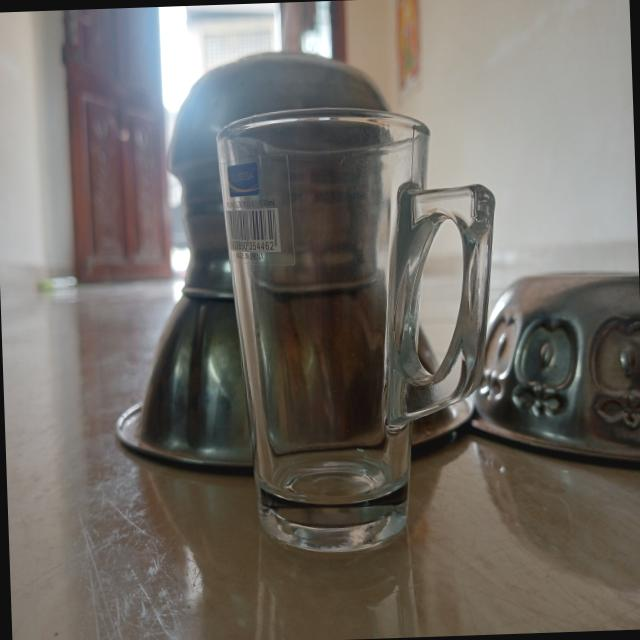glass-VX4N: (216, 101, 507, 558)
